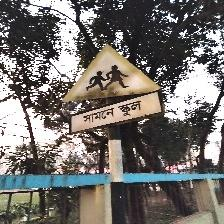School-in-front: (62, 44, 164, 135)
